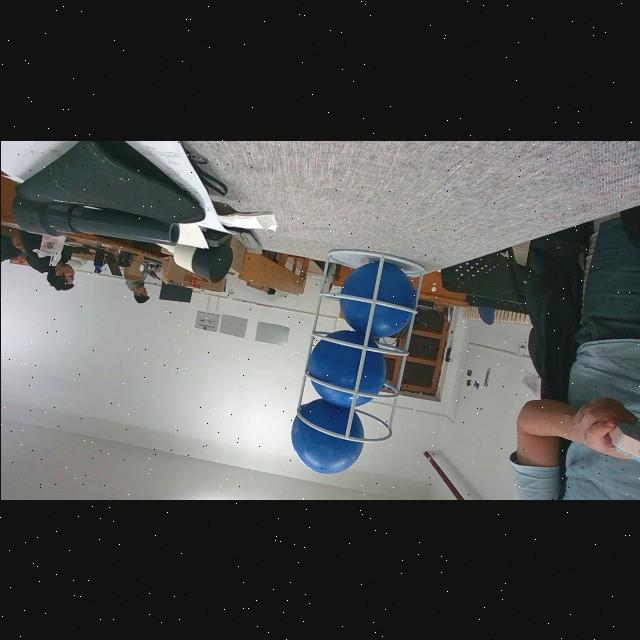B: (307, 330, 385, 408), (291, 398, 364, 474), (340, 264, 412, 336)
S: (295, 249, 425, 443)
